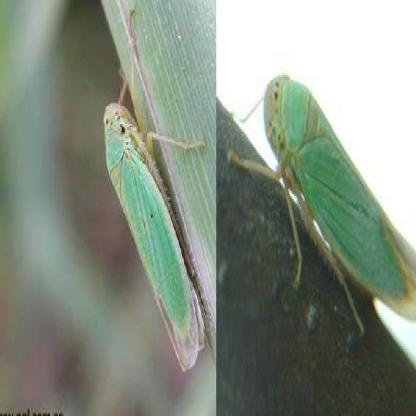Green-Leafhopper: (228, 62, 416, 338), (107, 12, 208, 374)
